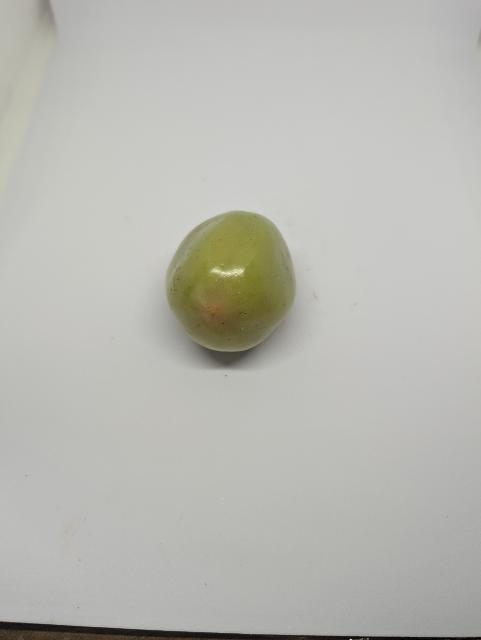green: (160, 202, 304, 365)
